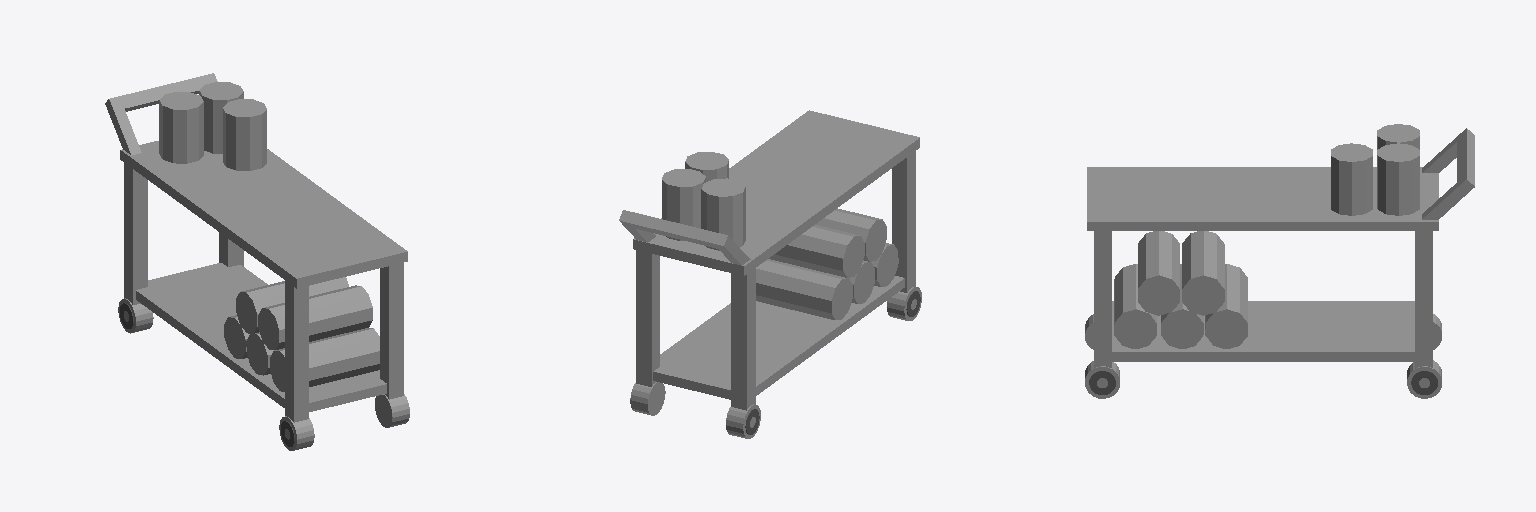
The model's file is Trolley.obj.
3 renders of one model, left to right at view 1: azimuth 30°, elevation 25°; view 2: azimuth 150°, elevation 25°; view 3: azimuth 270°, elevation 25°, orthographic.
Visible parts, largest first — view 1: Cube.186_Cube.258, Cube.183_Cube.255, Cylinder.049, Cylinder.046, Cube.189_Cube.261, Cube.188_Cube.260, Cylinder.044, Cylinder.042, Cube.181_Cube.253, Cube.190_Cube.262, Cylinder.048, Cylinder.043 (+6 smaller); view 2: Cube.186_Cube.258, Cube.183_Cube.255, Cylinder.047, Cube.181_Cube.253, Cylinder.048, Cube.187_Cube.259, Cube.189_Cube.261, Cylinder.044, Cube.190_Cube.262, Cylinder.043, Cylinder.049, Cylinder.042 (+5 smaller); view 3: Cube.186_Cube.258, Cube.183_Cube.255, Cylinder.048, Cylinder.049, Cylinder.043, Cylinder.042, Cylinder.046, Cylinder.047, Cube.187_Cube.259, Cube.188_Cube.260, Cube.190_Cube.262, Cylinder.045 (+3 smaller).
Part boxes in pixels (x1,y1,x2,y2): Cube.186_Cube.258: (120, 141, 407, 288); Cube.183_Cube.255: (136, 263, 386, 411); Cylinder.049: (258, 285, 372, 349); Cylinder.046: (270, 328, 379, 391); Cube.189_Cube.261: (285, 281, 308, 422); Cube.188_Cube.260: (380, 263, 403, 399); Cylinder.044: (159, 92, 203, 163); Cylinder.042: (223, 99, 266, 170); Cube.181_Cube.253: (124, 163, 147, 304); Cube.190_Cube.262: (105, 73, 217, 155); Cylinder.048: (236, 277, 348, 333); Cylinder.043: (199, 82, 243, 153); Cube.186_Cube.258: (633, 110, 919, 275); Cube.183_Cube.255: (653, 276, 904, 399); Cylinder.047: (756, 259, 852, 319); Cube.181_Cube.253: (731, 268, 755, 410); Cylinder.048: (769, 225, 864, 277); Cube.187_Cube.259: (636, 250, 659, 386); Cube.189_Cube.261: (892, 151, 915, 292); Cylinder.044: (701, 178, 745, 250); Cube.190_Cube.262: (619, 210, 750, 265); Cylinder.043: (662, 169, 705, 240); Cylinder.049: (815, 208, 886, 261); Cylinder.042: (685, 152, 728, 181); Cube.186_Cube.258: (1087, 167, 1438, 230); Cube.183_Cube.255: (1112, 301, 1414, 361); Cylinder.048: (1182, 231, 1224, 315); Cylinder.049: (1138, 231, 1179, 315); Cylinder.043: (1377, 143, 1419, 215); Cylinder.042: (1331, 143, 1372, 215); Cylinder.046: (1114, 264, 1156, 348); Cylinder.047: (1205, 264, 1247, 348); Cube.187_Cube.259: (1415, 231, 1432, 368); Cube.188_Cube.260: (1094, 231, 1111, 367); Cube.190_Cube.262: (1422, 128, 1474, 219); Cylinder.045: (1161, 264, 1203, 348).
Bounding box in the file's own units: 1.32 × 2.55 × 3.9.